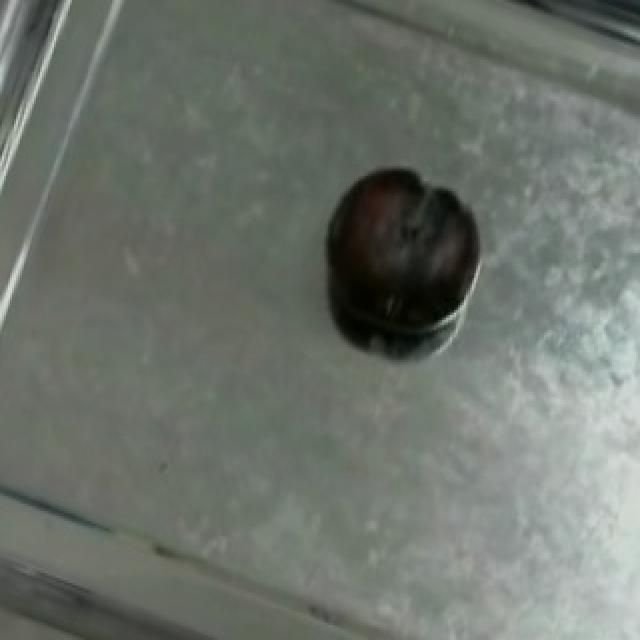Fruit: (312, 153, 484, 360)
